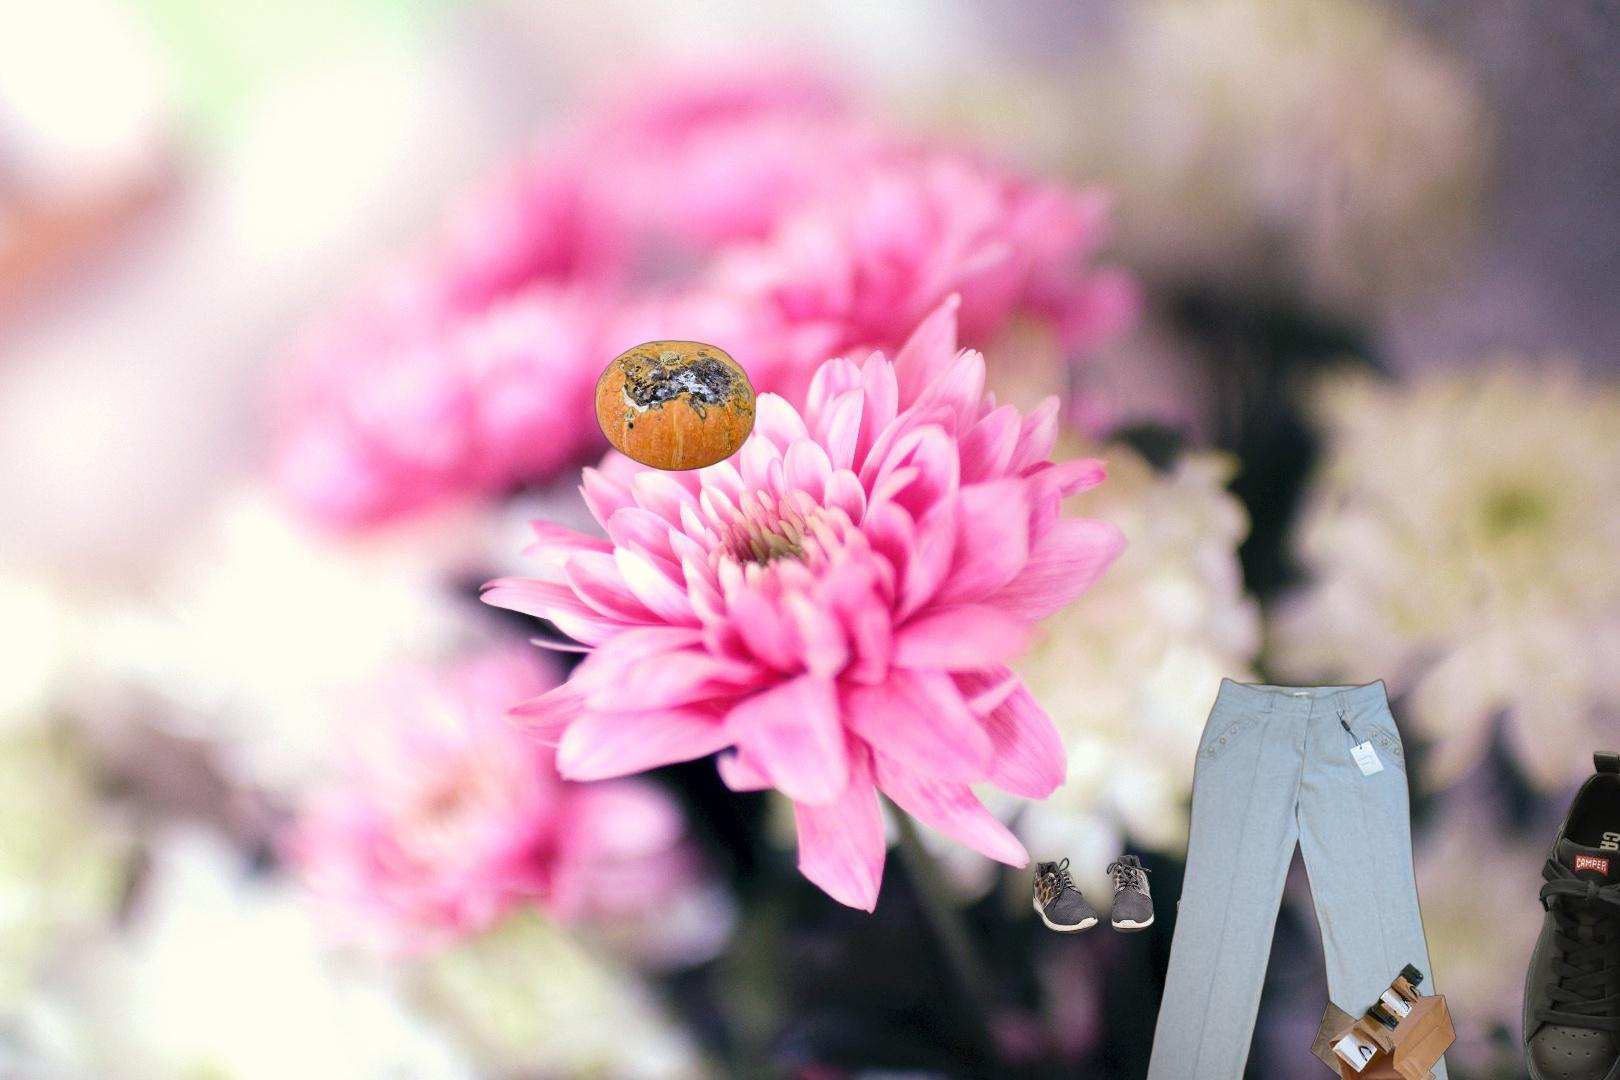biological: (592, 337, 757, 474)
clothes: (1127, 673, 1471, 1080)
paper-bag: (1309, 959, 1458, 1080)
shoes: (1519, 749, 1620, 1080), (1031, 841, 1282, 937)
